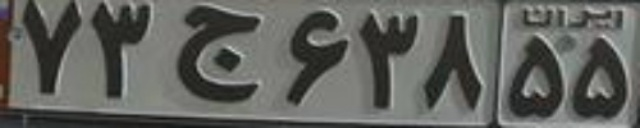3: (90, 2, 151, 100), (358, 11, 419, 108)
5: (568, 35, 630, 118), (508, 33, 563, 116)
6: (284, 9, 349, 105)
7: (23, 1, 82, 97)
8: (424, 12, 485, 109)
jim: (176, 5, 259, 104)
